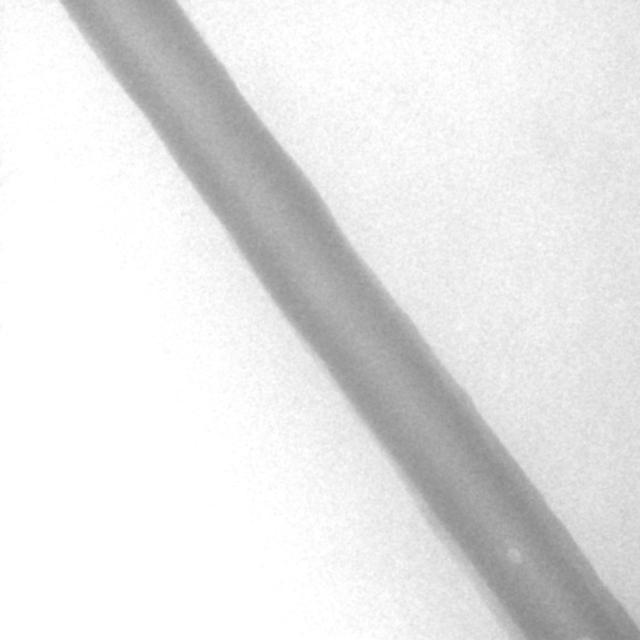air-hole: (506, 544, 523, 568)
